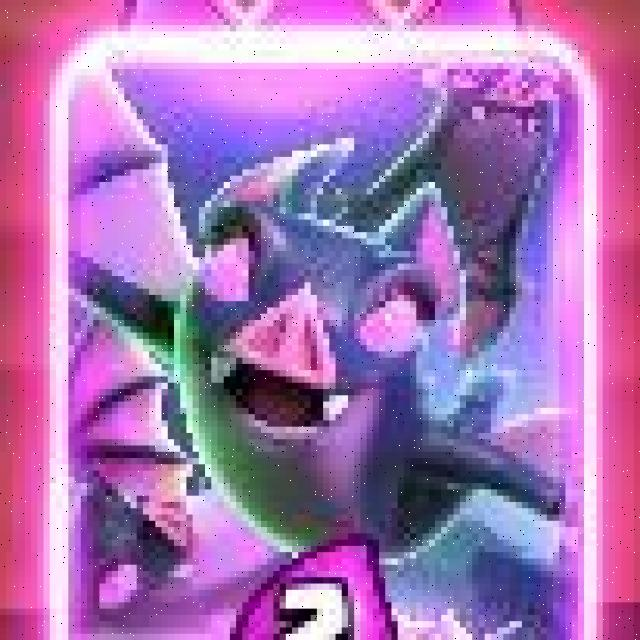Evolved_Bats: (41, 27, 599, 640)
